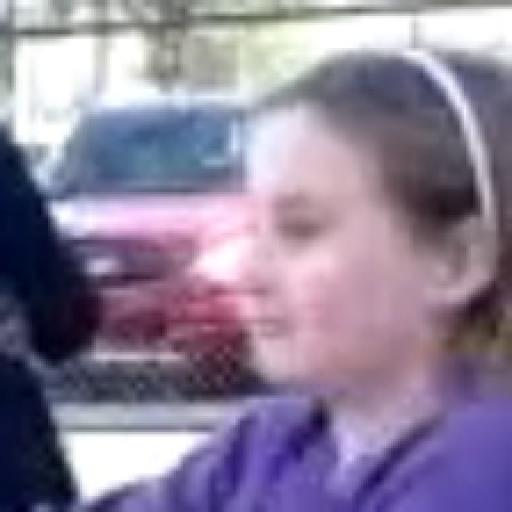Autism: (196, 58, 512, 458)
